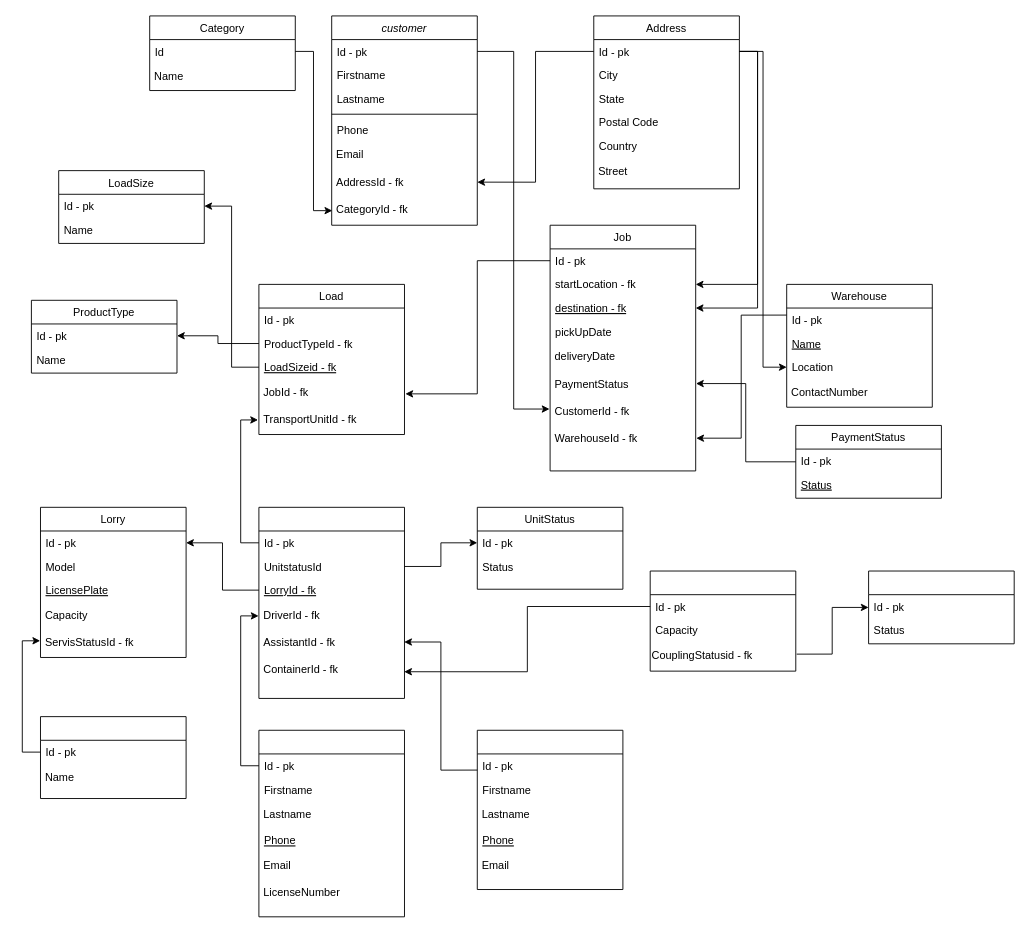
Image size: 1030x933. Some labels were removed from this diagram. Each missing label, with the box of its shape:
Assistant: (476, 729, 623, 890)
Container: (649, 570, 796, 671)
CouplingStatus: (868, 570, 1014, 644)
Driver: (258, 729, 404, 917)
ServisStatus: (40, 716, 186, 799)
TransportUnit: (258, 506, 404, 698)
